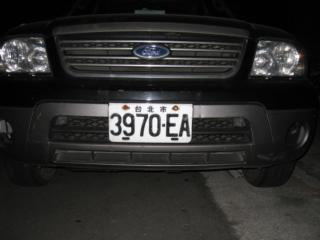plate: (106, 100, 193, 145)
